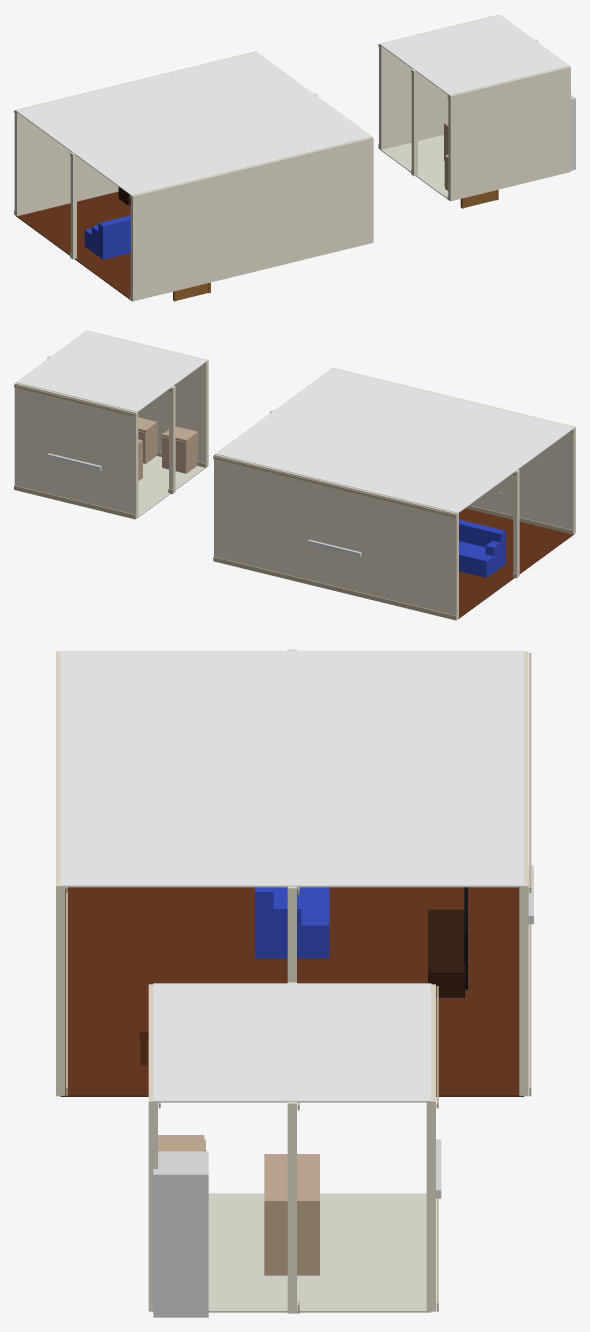
Rendered from ultra_detailed_5064.obj.
The picture shows the model from 3 angles, top to bottom: view 1: azimuth 30°, elevation 25°; view 2: azimuth 150°, elevation 25°; view 3: azimuth 270°, elevation 25°; orthographic projection. The views are drawn at different scales.
Visible parts, largest first — view 1: LivingRoom_ceiling_LivingRoom_ceiling_material, LivingRoom_front_wall_LivingRoom_front_wall_material, Kitchen_front_wall_Kitchen_front_wall_material, Kitchen_ceiling_Kitchen_ceiling_material, LivingRoom_back_wall_LivingRoom_back_wall_material, Kitchen_back_wall_Kitchen_back_wall_material, LivingRoom_floor_LivingRoom_floor_material, Kitchen_floor_Kitchen_floor_material, LivingRoom_sofa_base_LivingRoom_sofa_fabric, LivingRoom_sofa_back_LivingRoom_sofa_fabric.001, LivingRoom_left_wall_LivingRoom_left_wall_material, Kitchen_left_wall_Kitchen_left_wall_material; view 2: LivingRoom_ceiling_LivingRoom_ceiling_material, LivingRoom_back_wall_LivingRoom_back_wall_material, Kitchen_back_wall_Kitchen_back_wall_material, Kitchen_ceiling_Kitchen_ceiling_material, LivingRoom_front_wall_LivingRoom_front_wall_material, LivingRoom_floor_LivingRoom_floor_material, Kitchen_front_wall_Kitchen_front_wall_material, Kitchen_floor_Kitchen_floor_material, LivingRoom_back_wall_baseboard_LivingRoom_back_wall_baseboard_ma, LivingRoom_sofa_base_LivingRoom_sofa_fabric, LivingRoom_sofa_back_LivingRoom_sofa_fabric.001, LivingRoom_back_wall_crown_LivingRoom_back_wall_baseboard_materi (+7 smaller); view 3: LivingRoom_ceiling_LivingRoom_ceiling_material, LivingRoom_floor_LivingRoom_floor_material, Kitchen_ceiling_Kitchen_ceiling_material, Kitchen_floor_Kitchen_floor_material, Kitchen_fridge_Kitchen_fridge_material, Kitchen_island_Kitchen_island_material, LivingRoom_sofa_base_LivingRoom_sofa_fabric, LivingRoom_front_wall_LivingRoom_front_wall_material, LivingRoom_back_wall_LivingRoom_back_wall_material, LivingRoom_tv_stand_LivingRoom_tv_material, Kitchen_back_wall_Kitchen_back_wall_material, Kitchen_front_wall_Kitchen_front_wall_material (+3 smaller).
Part boxes in pixels (x1,y1,x2,y2): LivingRoom_ceiling_LivingRoom_ceiling_material: [16, 52, 372, 195]; LivingRoom_front_wall_LivingRoom_front_wall_material: [130, 137, 373, 301]; Kitchen_front_wall_Kitchen_front_wall_material: [448, 66, 570, 201]; Kitchen_ceiling_Kitchen_ceiling_material: [380, 15, 569, 95]; LivingRoom_back_wall_LivingRoom_back_wall_material: [14, 51, 255, 216]; Kitchen_back_wall_Kitchen_back_wall_material: [379, 14, 499, 149]; LivingRoom_floor_LivingRoom_floor_material: [16, 191, 131, 300]; Kitchen_floor_Kitchen_floor_material: [380, 135, 449, 200]; LivingRoom_sofa_base_LivingRoom_sofa_fabric: [84, 228, 130, 259]; LivingRoom_sofa_back_LivingRoom_sofa_fabric.001: [98, 215, 130, 250]; LivingRoom_left_wall_LivingRoom_left_wall_material: [70, 152, 76, 259]; Kitchen_left_wall_Kitchen_left_wall_material: [411, 69, 417, 176]; LivingRoom_ceiling_LivingRoom_ceiling_material: [215, 368, 574, 513]; LivingRoom_back_wall_LivingRoom_back_wall_material: [214, 454, 458, 619]; Kitchen_back_wall_Kitchen_back_wall_material: [14, 382, 138, 518]; Kitchen_ceiling_Kitchen_ceiling_material: [16, 331, 207, 412]; LivingRoom_front_wall_LivingRoom_front_wall_material: [332, 367, 575, 533]; LivingRoom_floor_LivingRoom_floor_material: [458, 508, 574, 619]; Kitchen_front_wall_Kitchen_front_wall_material: [87, 330, 208, 467]; Kitchen_floor_Kitchen_floor_material: [137, 456, 206, 518]; LivingRoom_back_wall_baseboard_LivingRoom_back_wall_baseboard_ma: [213, 557, 456, 620]; LivingRoom_sofa_base_LivingRoom_sofa_fabric: [459, 541, 505, 577]; LivingRoom_sofa_back_LivingRoom_sofa_fabric.001: [459, 519, 505, 548]; LivingRoom_back_wall_crown_LivingRoom_back_wall_baseboard_materi: [213, 456, 456, 517]; LivingRoom_ceiling_LivingRoom_ceiling_material: [60, 650, 523, 887]; LivingRoom_floor_LivingRoom_floor_material: [60, 887, 523, 1096]; Kitchen_ceiling_Kitchen_ceiling_material: [153, 983, 431, 1102]; Kitchen_floor_Kitchen_floor_material: [208, 1193, 431, 1312]; Kitchen_fridge_Kitchen_fridge_material: [153, 1151, 208, 1317]; Kitchen_island_Kitchen_island_material: [264, 1154, 319, 1275]; LivingRoom_sofa_base_LivingRoom_sofa_fabric: [255, 887, 329, 958]; LivingRoom_front_wall_LivingRoom_front_wall_material: [56, 651, 65, 1096]; LivingRoom_back_wall_LivingRoom_back_wall_material: [519, 651, 528, 1096]; LivingRoom_tv_stand_LivingRoom_tv_material: [428, 909, 465, 997]; Kitchen_back_wall_Kitchen_back_wall_material: [426, 984, 435, 1311]; Kitchen_front_wall_Kitchen_front_wall_material: [148, 984, 157, 1311].
Size of the model in its own units: 11.7 by 2.87 by 5.16.
